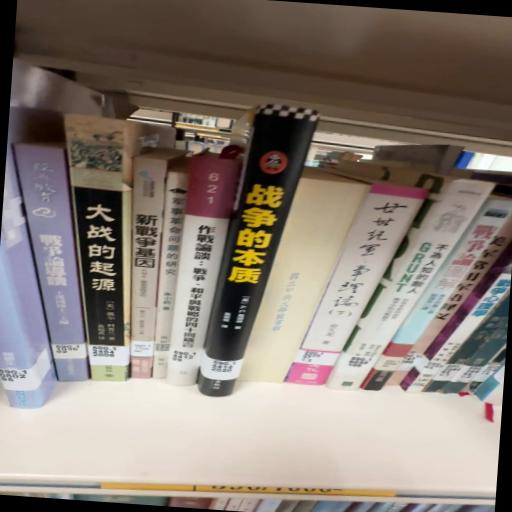backward: (239, 169, 369, 383)
book: (198, 100, 321, 399), (1, 144, 105, 388), (172, 147, 248, 389), (61, 185, 143, 388)
